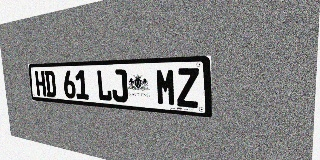1: (74, 70, 89, 100)
6: (62, 70, 76, 99)
D: (44, 71, 56, 97)
H: (35, 71, 46, 96)
J: (111, 69, 128, 103)
L: (96, 69, 112, 101)
M: (155, 68, 176, 106)
Z: (176, 68, 199, 108)
